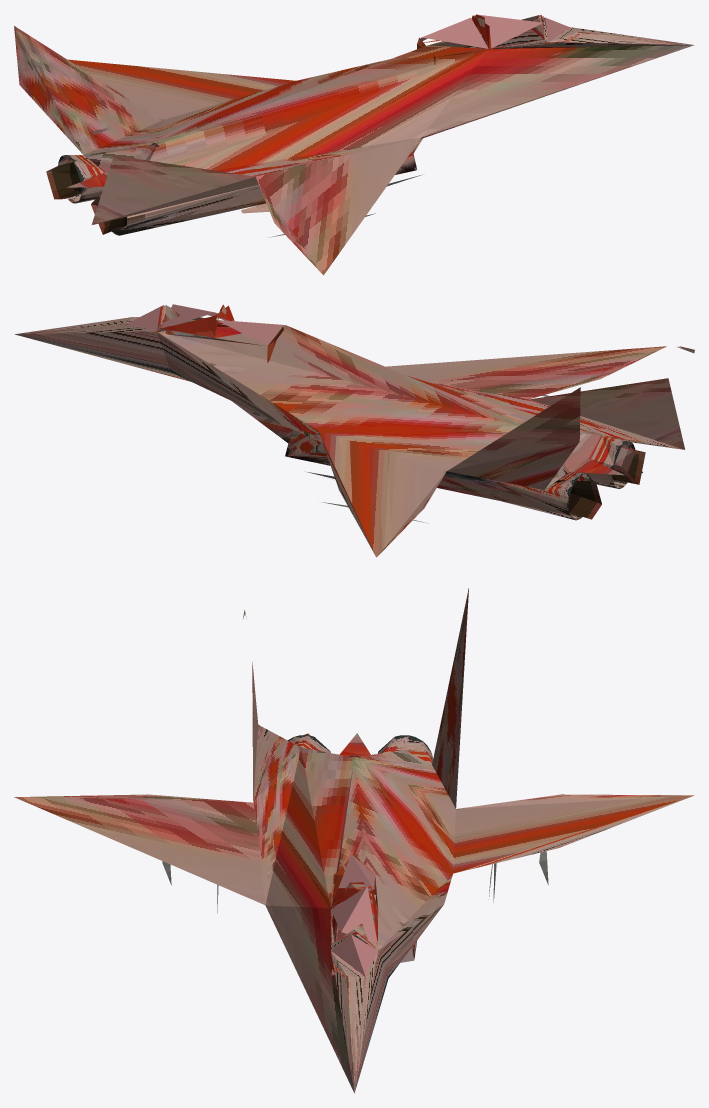
3 renders of one model, top to bottom at view 1: azimuth 30°, elevation 25°; view 2: azimuth 150°, elevation 25°; view 3: azimuth 270°, elevation 25°, orthographic. The views are drawn at different scales.
Visible parts, largest first — view 1: Object_8, Object_23, Object_32; view 2: Object_8, Object_23, Object_32; view 3: Object_8, Object_23, Object_32.
Boxes of the visible parts, x1=… form: Object_8: x1=14, y1=15, x2=694, y2=275; Object_23: x1=420, y1=14, x2=569, y2=48; Object_32: x1=417, y1=14, x2=579, y2=64; Object_8: x1=15, y1=305, x2=694, y2=557; Object_23: x1=127, y1=304, x2=283, y2=345; Object_32: x1=127, y1=304, x2=283, y2=362; Object_8: x1=14, y1=588, x2=694, y2=1093; Object_23: x1=331, y1=854, x2=377, y2=976; Object_32: x1=330, y1=854, x2=378, y2=977.
Size of the model in its own units: 150 by 39.25 by 119.
1 material, 1 textured.
